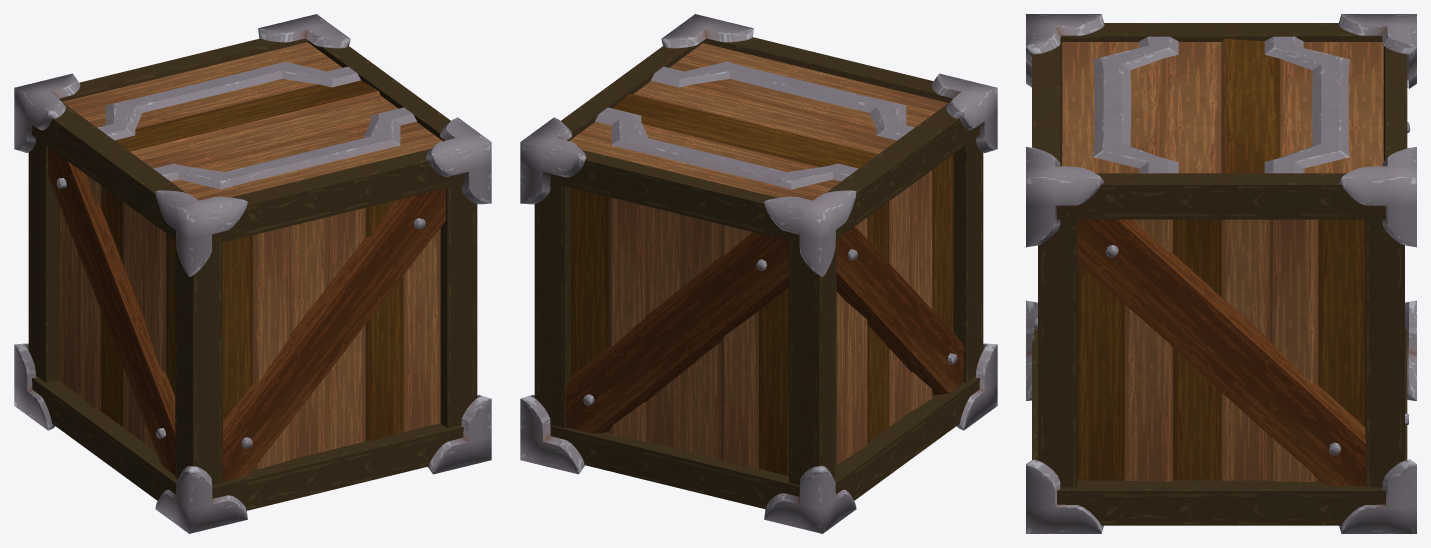
Rendered from fp_crate_metal.glb.
3 views of the same model, side by side, from view 1: azimuth 30°, elevation 25°; view 2: azimuth 150°, elevation 25°; view 3: azimuth 270°, elevation 25° (orthographic). The views are drawn at different scales.
Parts seen in each view (by area): view 1: Crate_Metal; view 2: Crate_Metal; view 3: Crate_Metal.
Boxes of the visible parts, box(x1,y1,x2,y2) form: Crate_Metal: box(14, 14, 491, 533); Crate_Metal: box(520, 14, 997, 533); Crate_Metal: box(1026, 14, 1416, 533).
Size of the model in its own units: 0.8639 by 0.8679 by 0.8659.
Materials: 2 (2 with a texture image).
